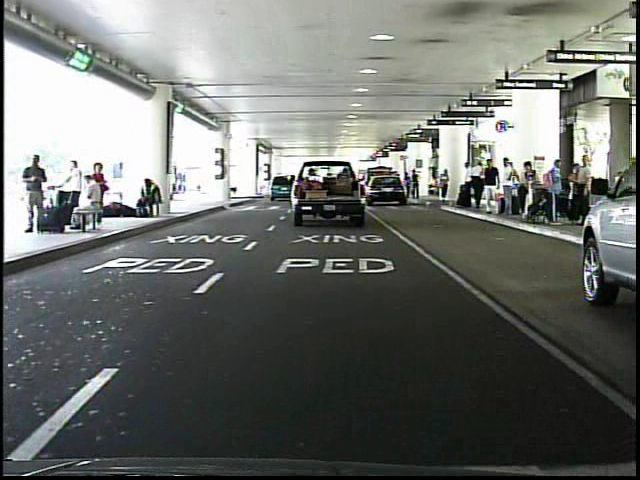person: (24, 152, 54, 239), (478, 156, 503, 224), (499, 157, 519, 220), (458, 156, 479, 212), (437, 166, 453, 205), (411, 169, 421, 204), (403, 170, 413, 202)
